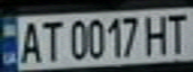0: (84, 16, 106, 60), (66, 16, 87, 61)
1: (106, 15, 124, 58)
7: (121, 14, 142, 56)
A: (15, 18, 45, 64)
H: (142, 11, 172, 56)
T: (36, 17, 66, 63), (163, 10, 193, 54)
